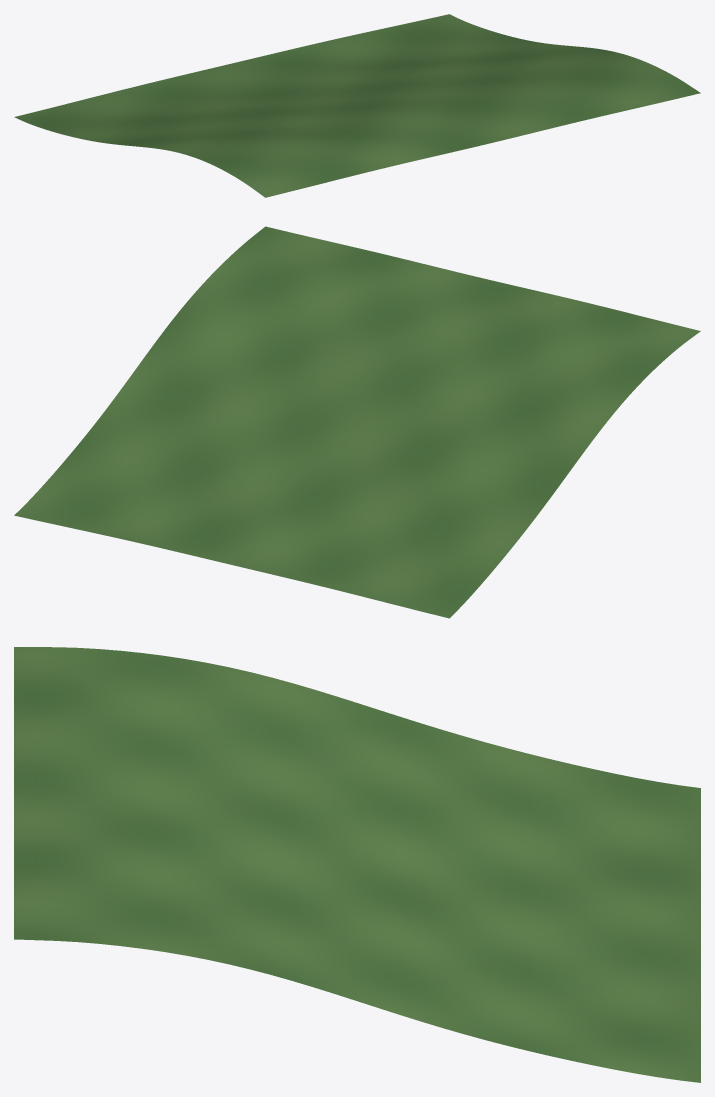
Rendered from chunk_2_12.glb.
3 views of the same model, one above another, from view 1: azimuth 30°, elevation 25°; view 2: azimuth 150°, elevation 25°; view 3: azimuth 270°, elevation 25° (orthographic). The views are drawn at different scales.
Size of the model in its own units: 512 by 121 by 512.
